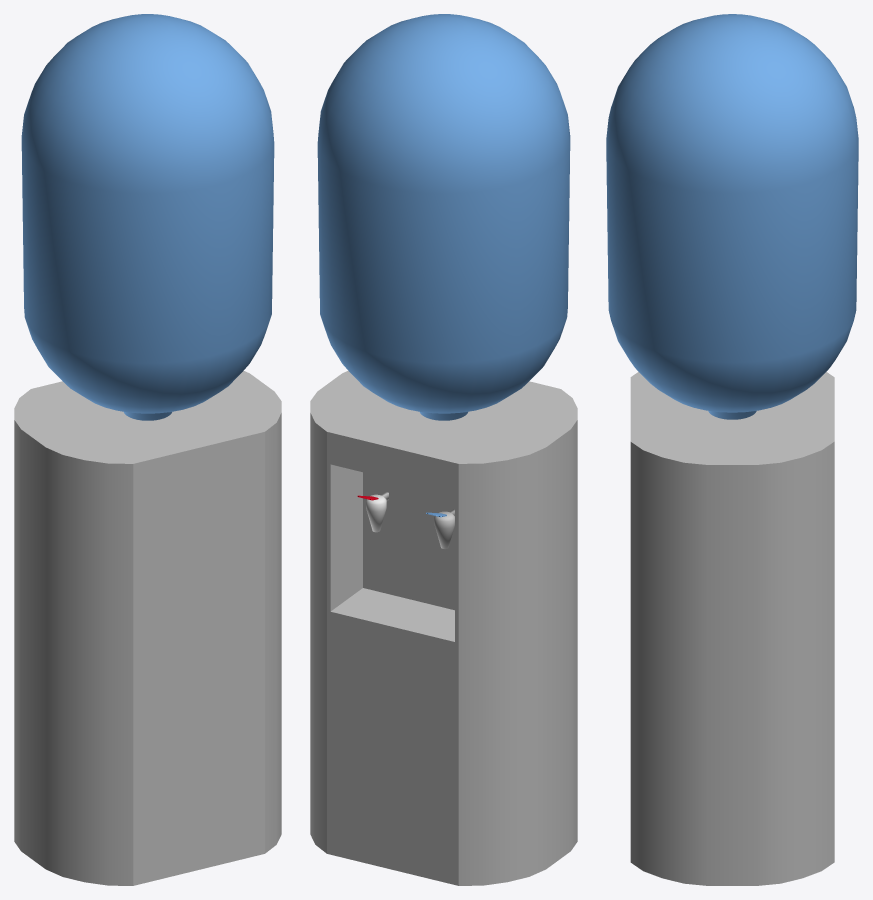
File: water tank.fbx
The picture shows the model from 3 angles, left to right: view 1: azimuth 30°, elevation 25°; view 2: azimuth 150°, elevation 25°; view 3: azimuth 270°, elevation 25°; orthographic projection.
Visible parts, largest first — view 1: Cylinder.023, Sphere.002; view 2: Cylinder.023, Sphere.002, Cylinder.025, Cylinder.024; view 3: Cylinder.023, Sphere.002.
Part boxes in pixels (x1,y1,x2,y2): Cylinder.023: (14,370,281,885); Sphere.002: (21,14,274,420); Cylinder.023: (310,370,577,885); Sphere.002: (317,14,570,420); Cylinder.025: (366,492,388,532); Cylinder.024: (434,509,454,548); Cylinder.023: (630,372,834,885); Sphere.002: (606,14,858,419).
Bounding box in the file's own units: 209 × 703 × 200.
